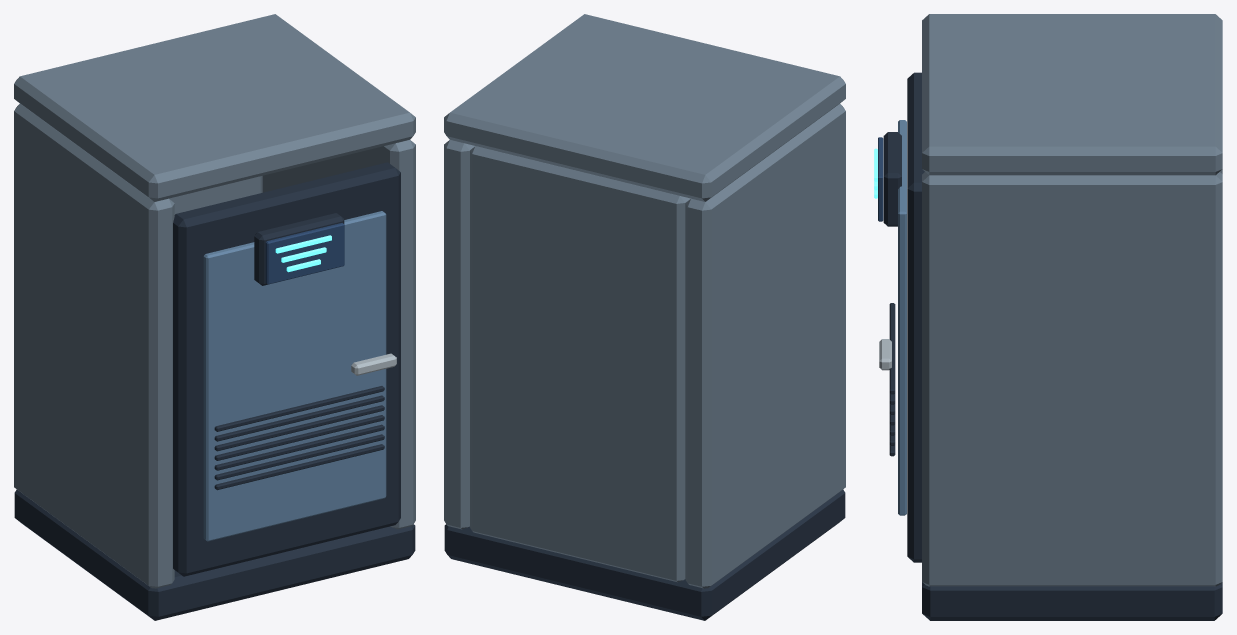
The model's file is logistics_11.glb.
3 views of the same model, side by side, from view 1: azimuth 30°, elevation 25°; view 2: azimuth 150°, elevation 25°; view 3: azimuth 270°, elevation 25° (orthographic). The views are drawn at different scales.
Parts seen in each view (by area): view 1: Side (×2), Top, InsetPanel, DoorPanel, Base, VentSlot (×7), Screen, Back, MonitorFrame, Handle; view 2: Back, Side (×2), Top, Base; view 3: Side, Top, Base, DoorPanel, InsetPanel, MonitorFrame, VentSlot, Screen.
Boxes of the visible parts, x1,y1,x2,y2 form: Side (×2): (14,104,415,588); Top: (14,14,415,201); InsetPanel: (203,211,386,541); DoorPanel: (173,162,400,576); Base: (14,489,415,620); VentSlot (×7): (214,386,384,490); Screen: (265,223,344,284); Back: (169,176,262,214); MonitorFrame: (254,213,344,285); Handle: (351,353,396,375); Back: (470,146,690,582); Side (×2): (444,104,845,588); Top: (444,14,845,201); Base: (444,489,845,620); Side: (922,172,1222,586); Top: (922,14,1222,175); Base: (922,582,1222,620); DoorPanel: (907,72,924,562); InsetPanel: (898,120,906,515); MonitorFrame: (883,132,901,226); VentSlot: (889,303,895,394); Screen: (878,137,883,221).
Size of the model in its own units: 0.72 by 1.15 by 0.765.
